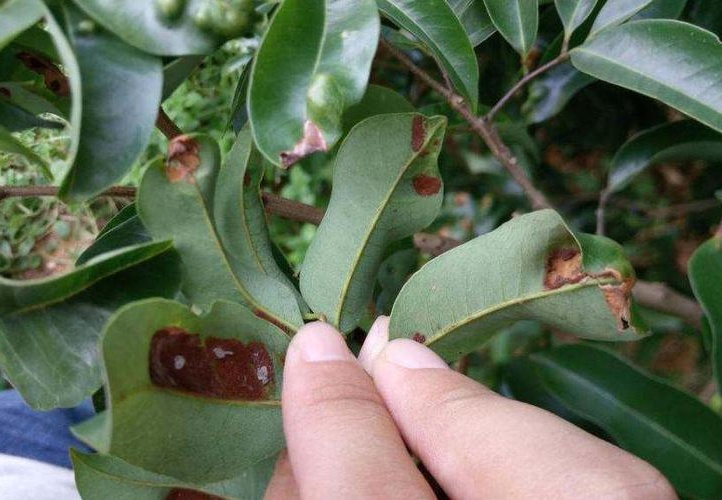Gall_Mite: (167, 89, 332, 206), (154, 308, 322, 387), (538, 228, 644, 318), (406, 94, 483, 198)
